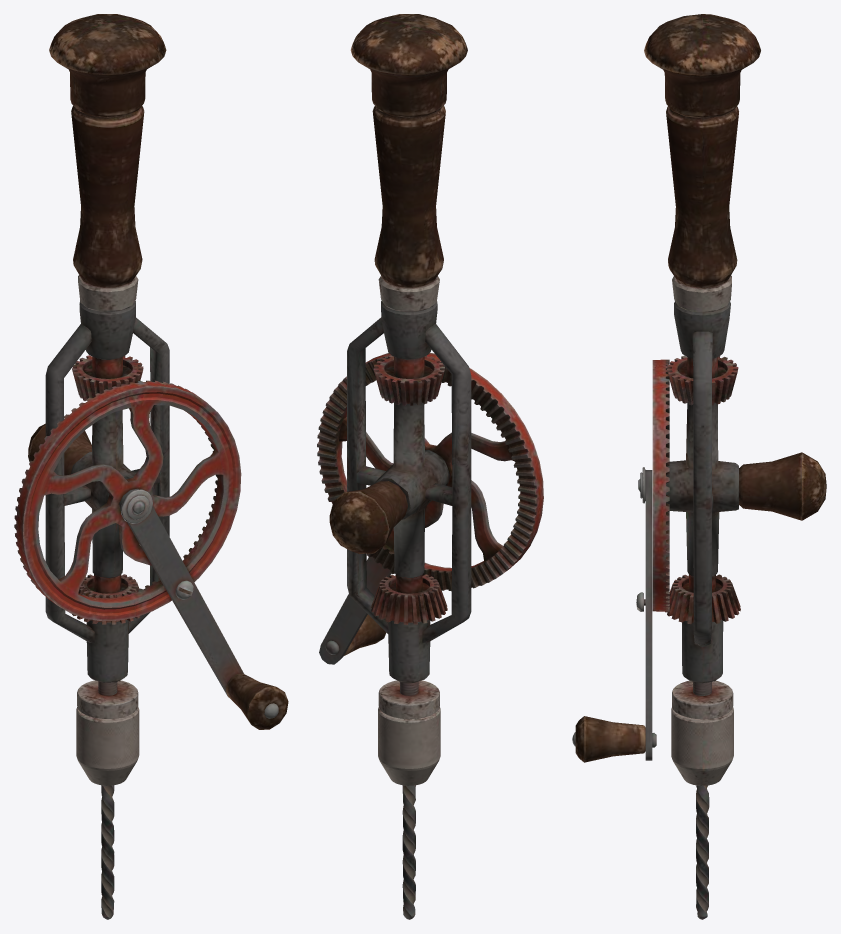
The model's file is vintage_hand_drill.glb.
3 views of the same model, side by side, from view 1: azimuth 30°, elevation 25°; view 2: azimuth 150°, elevation 25°; view 3: azimuth 270°, elevation 25° (orthographic).
Parts seen in each view (by area): view 1: vintage_hand_drill, vintage_hand_drill_crank, vintage_hand_drill_head, vintage_hand_drill_cog1, vintage_hand_drill_cog2; view 2: vintage_hand_drill, vintage_hand_drill_crank, vintage_hand_drill_head, vintage_hand_drill_cog2, vintage_hand_drill_cog1; view 3: vintage_hand_drill, vintage_hand_drill_crank, vintage_hand_drill_head, vintage_hand_drill_cog2, vintage_hand_drill_cog1.
Part boxes in pixels (bbox=[...]): vintage_hand_drill: bbox=[28, 14, 169, 682]; vintage_hand_drill_crank: bbox=[14, 380, 288, 729]; vintage_hand_drill_head: bbox=[76, 680, 139, 919]; vintage_hand_drill_cog1: bbox=[72, 355, 143, 400]; vintage_hand_drill_cog2: bbox=[72, 574, 139, 624]; vintage_hand_drill: bbox=[329, 14, 471, 682]; vintage_hand_drill_crank: bbox=[317, 352, 543, 664]; vintage_hand_drill_head: bbox=[378, 680, 440, 919]; vintage_hand_drill_cog2: bbox=[371, 574, 447, 624]; vintage_hand_drill_cog1: bbox=[373, 355, 444, 405]; vintage_hand_drill: bbox=[644, 14, 826, 683]; vintage_hand_drill_crank: bbox=[572, 359, 669, 762]; vintage_hand_drill_head: bbox=[671, 680, 733, 919]; vintage_hand_drill_cog2: bbox=[665, 574, 740, 624]; vintage_hand_drill_cog1: bbox=[667, 355, 738, 405].
Bounding box in the file's own units: 0.1312 × 0.4857 × 0.1251.
Materials: 1 (1 with a texture image).
